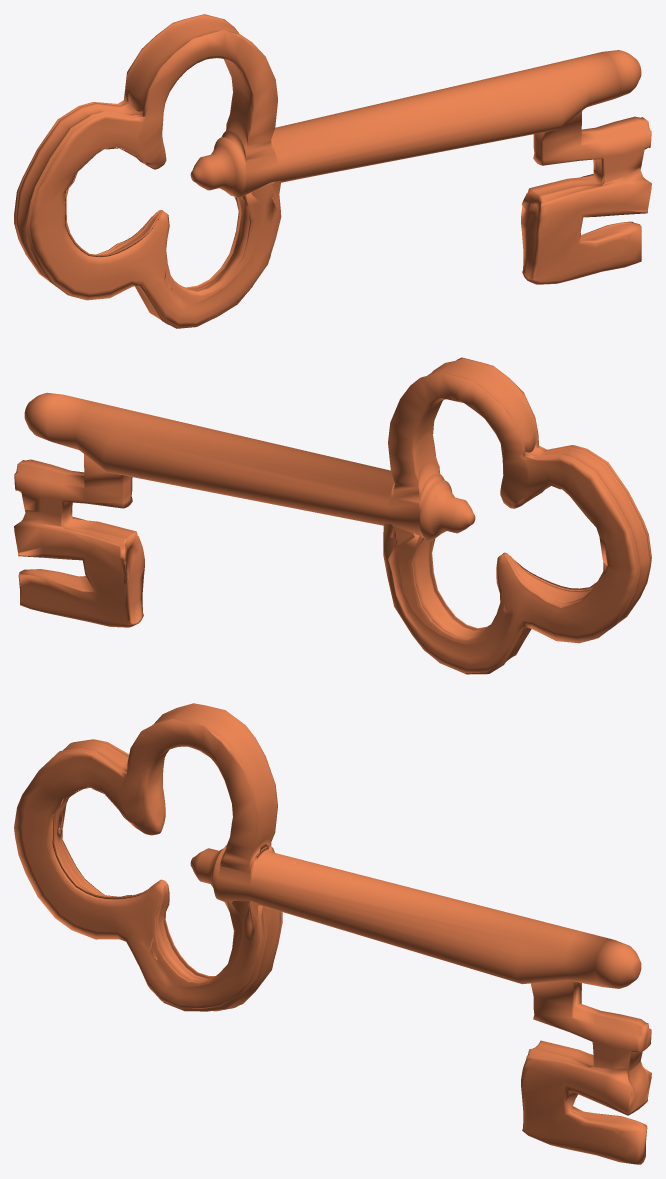
The model's file is avain.fbx.
3 views of the same model, one above another, from view 1: azimuth 30°, elevation 25°; view 2: azimuth 150°, elevation 25°; view 3: azimuth 330°, elevation 25° (orthographic).
Visible parts, largest first — view 1: Cylinder; view 2: Cylinder; view 3: Cylinder.
Part boxes in pixels (<box>): Cylinder: <box>14,14,651,328</box>; Cylinder: <box>14,357,651,674</box>; Cylinder: <box>14,703,651,1164</box>.
Bounding box in the file's own units: 21.97 × 11.56 × 2.72.
